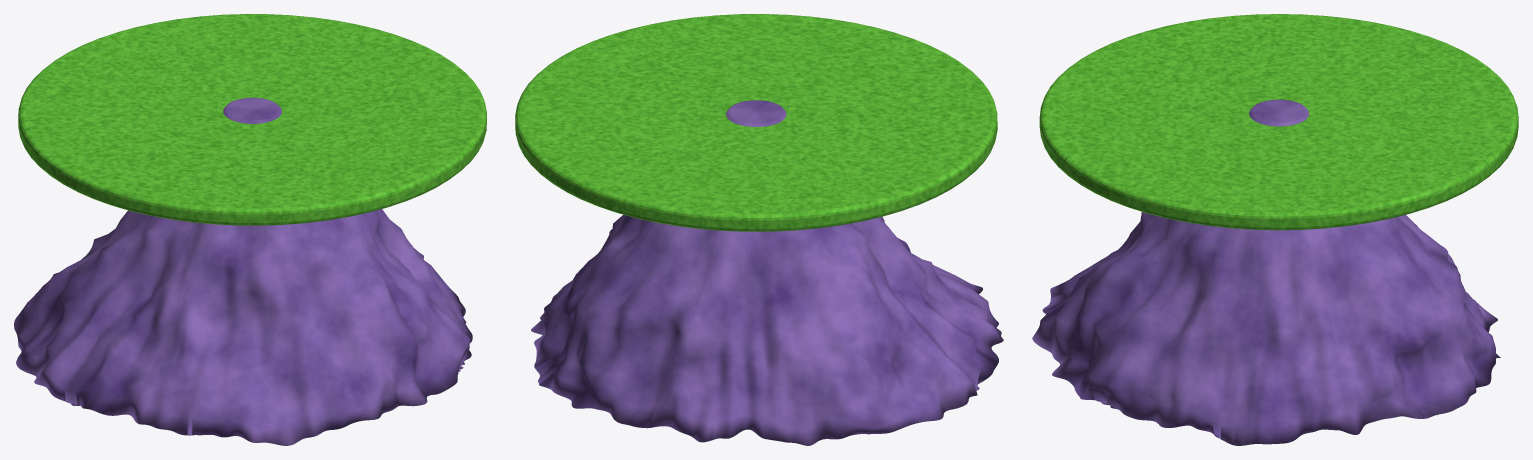
File: island_round.glb
3 views of the same model, side by side, from view 1: azimuth 30°, elevation 25°; view 2: azimuth 150°, elevation 25°; view 3: azimuth 270°, elevation 25° (orthographic). The views are drawn at different scales.
Visible parts, largest first — view 1: island_round; view 2: island_round; view 3: island_round.
Part boxes in pixels (<box>): island_round: <box>14,14,486,445</box>; island_round: <box>515,14,1003,445</box>; island_round: <box>1032,14,1518,445</box>.
Size of the model in its own units: 2.08 by 1.14 by 2.07.
1 material, 1 textured.
